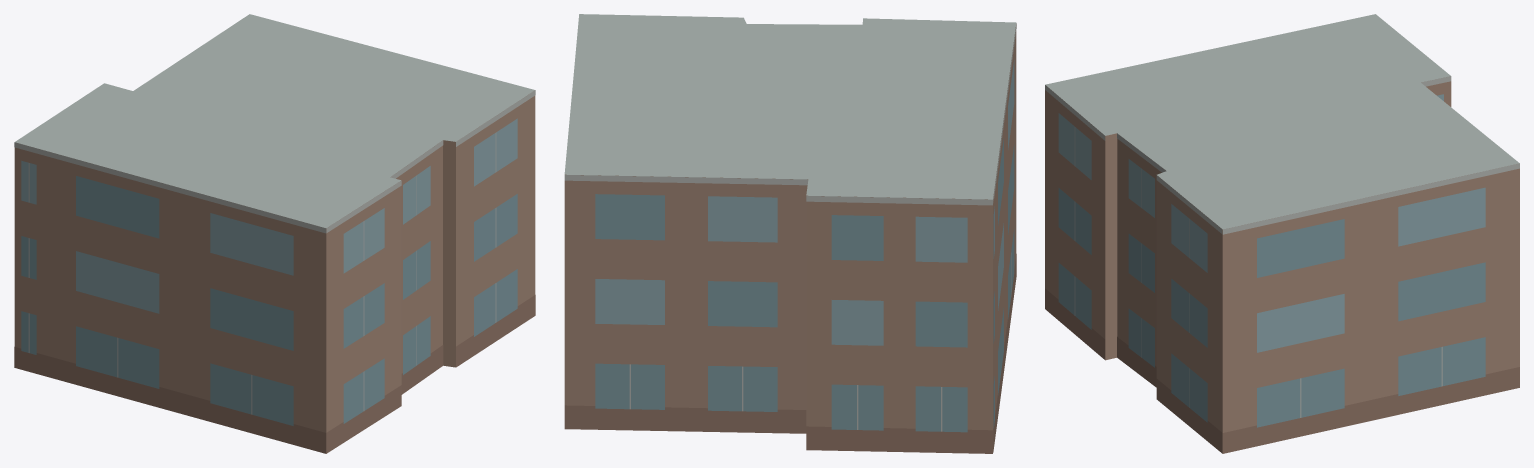
Rendered from survey-upis-32746782.glb.
3 renders of one model, left to right at view 1: azimuth 30°, elevation 25°; view 2: azimuth 150°, elevation 25°; view 3: azimuth 270°, elevation 25°, orthographic. The views are drawn at different scales.
Parts seen in each view (by area): view 1: survey-upis-32746782.tmp; view 2: survey-upis-32746782.tmp; view 3: survey-upis-32746782.tmp.
Part boxes in pixels (box(x1,y1,x2,y2)): survey-upis-32746782.tmp: box(14, 14, 535, 453); survey-upis-32746782.tmp: box(564, 14, 1016, 453); survey-upis-32746782.tmp: box(1045, 14, 1519, 453).
Bounding box in the file's own units: 21.63 × 10.5 × 20.14.
